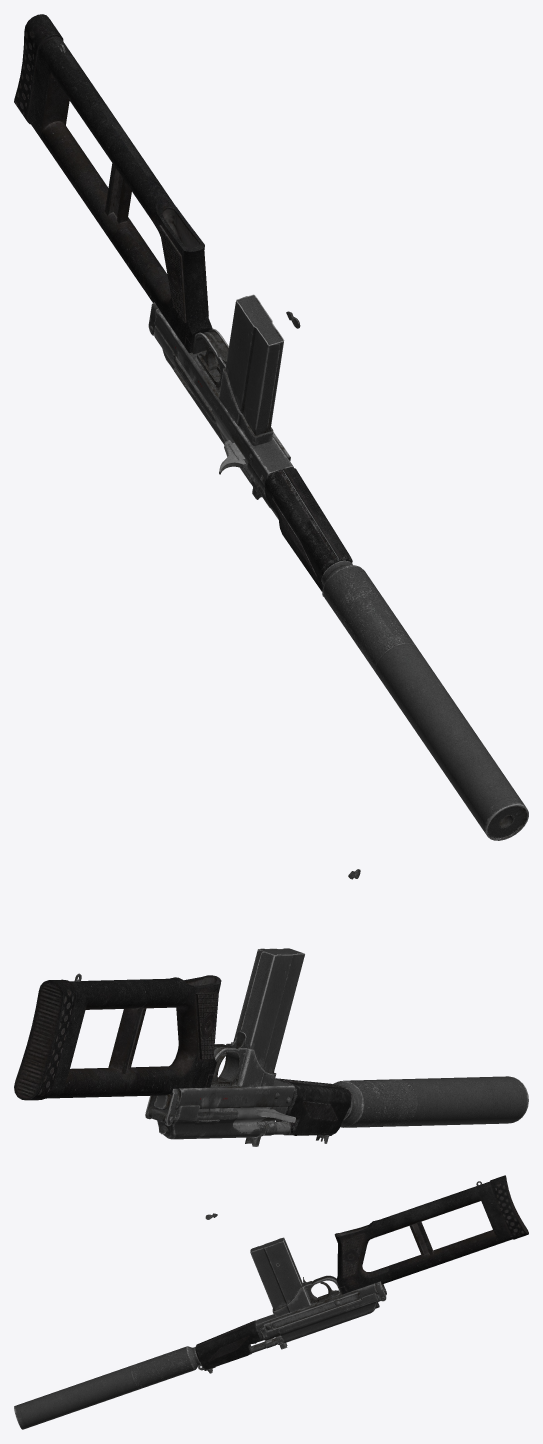
The model's file is vsk_tp.glb.
3 renders of one model, top to bottom at view 1: azimuth 30°, elevation 25°; view 2: azimuth 150°, elevation 25°; view 3: azimuth 270°, elevation 25°, orthographic. The views are drawn at different scales.
Visible parts, largest first — view 1: vsk; view 2: vsk; view 3: vsk.
Boxes of the visible parts, x1,y1,x2,y2 form: vsk: (14, 14, 528, 840); vsk: (14, 869, 528, 1146); vsk: (14, 1175, 528, 1429).
Size of the model in its own units: 0.0575 by 0.451 by 0.8335.
Materials: 3 (3 with a texture image).
